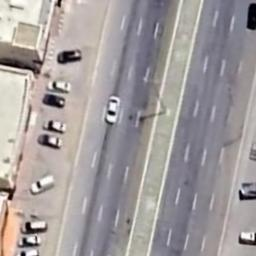sedan: (52, 48, 84, 68), (39, 91, 68, 111), (34, 132, 64, 150), (44, 77, 74, 94), (105, 94, 120, 127), (39, 117, 71, 132), (16, 235, 46, 247), (12, 249, 42, 256)
van: (16, 218, 52, 235), (28, 176, 58, 196)
